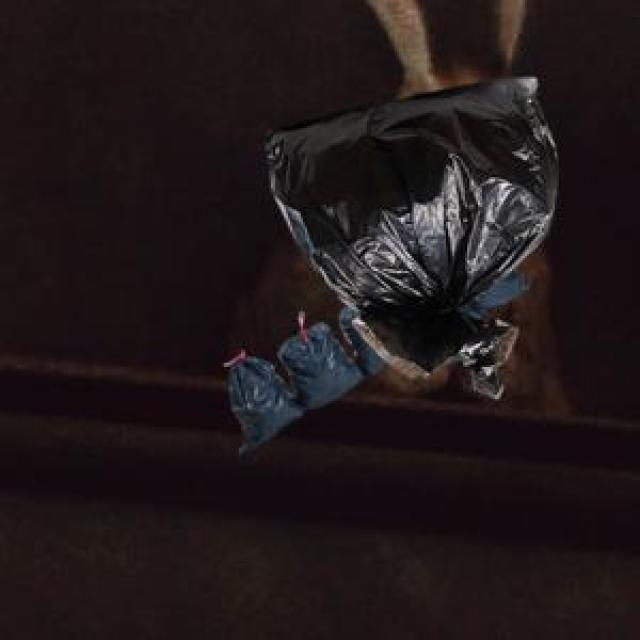waste: (225, 78, 559, 451)
